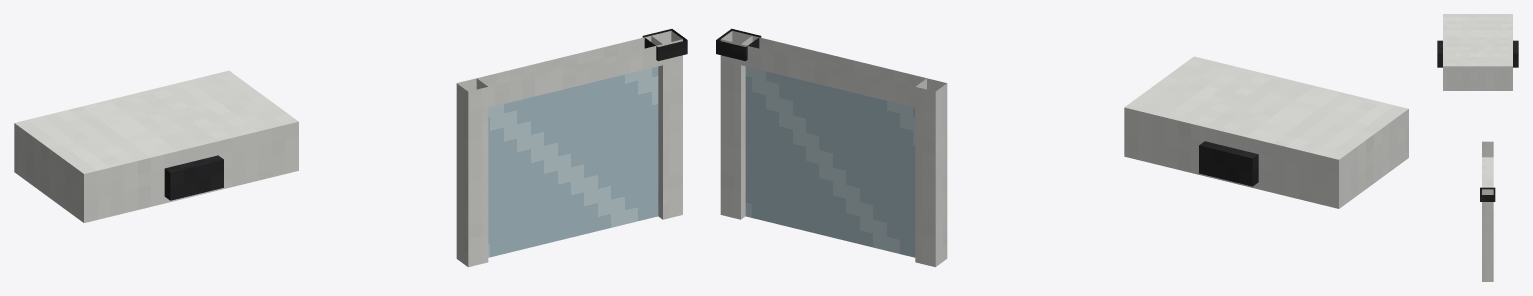
Rendered from auto_door_tele_slider_white_c1_upper_right_open.obj.
The picture shows the model from 3 angles, left to right: view 1: azimuth 30°, elevation 25°; view 2: azimuth 150°, elevation 25°; view 3: azimuth 270°, elevation 25°; orthographic projection. The views are drawn at different scales.
Visible parts, largest first — view 1: auto_door_tele_slider_white_c1_upper_right_open; view 2: auto_door_tele_slider_white_c1_upper_right_open; view 3: auto_door_tele_slider_white_c1_upper_right_open.
Boxes of the visible parts, x1,y1,x2,y2 form: auto_door_tele_slider_white_c1_upper_right_open: (14, 29, 687, 267); auto_door_tele_slider_white_c1_upper_right_open: (716, 28, 1408, 267); auto_door_tele_slider_white_c1_upper_right_open: (1437, 14, 1518, 281).
Bounding box in the file's own units: 2.98 × 1 × 0.6562.
